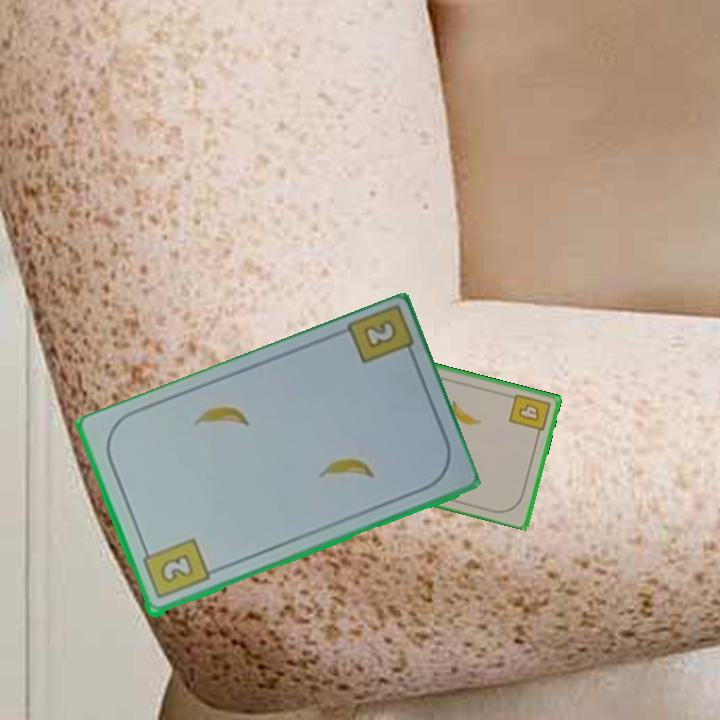2b: (341, 305, 420, 367), (139, 535, 212, 602)
4b: (505, 390, 553, 440)
